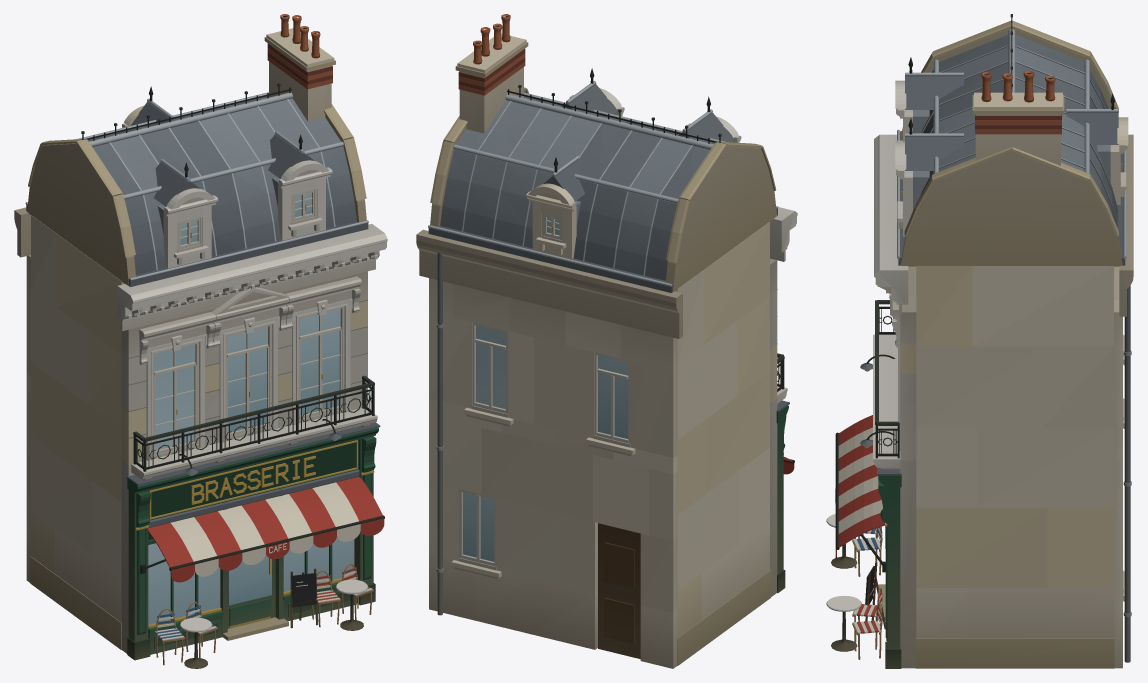
File: cafe-brasserie.glb
3 views of the same model, side by side, from view 1: azimuth 30°, elevation 25°; view 2: azimuth 150°, elevation 25°; view 3: azimuth 270°, elevation 25° (orthographic). The views are drawn at different scales.
Parts seen in each view (by area): view 1: cafe_brasserie_01; view 2: cafe_brasserie_01; view 3: cafe_brasserie_01.
Part boxes in pixels (<box>): cafe_brasserie_01: <box>14,14,387,668</box>; cafe_brasserie_01: <box>416,14,797,668</box>; cafe_brasserie_01: <box>826,14,1133,668</box>.
Size of the model in its own units: 4.9 by 9.94 by 4.69.
